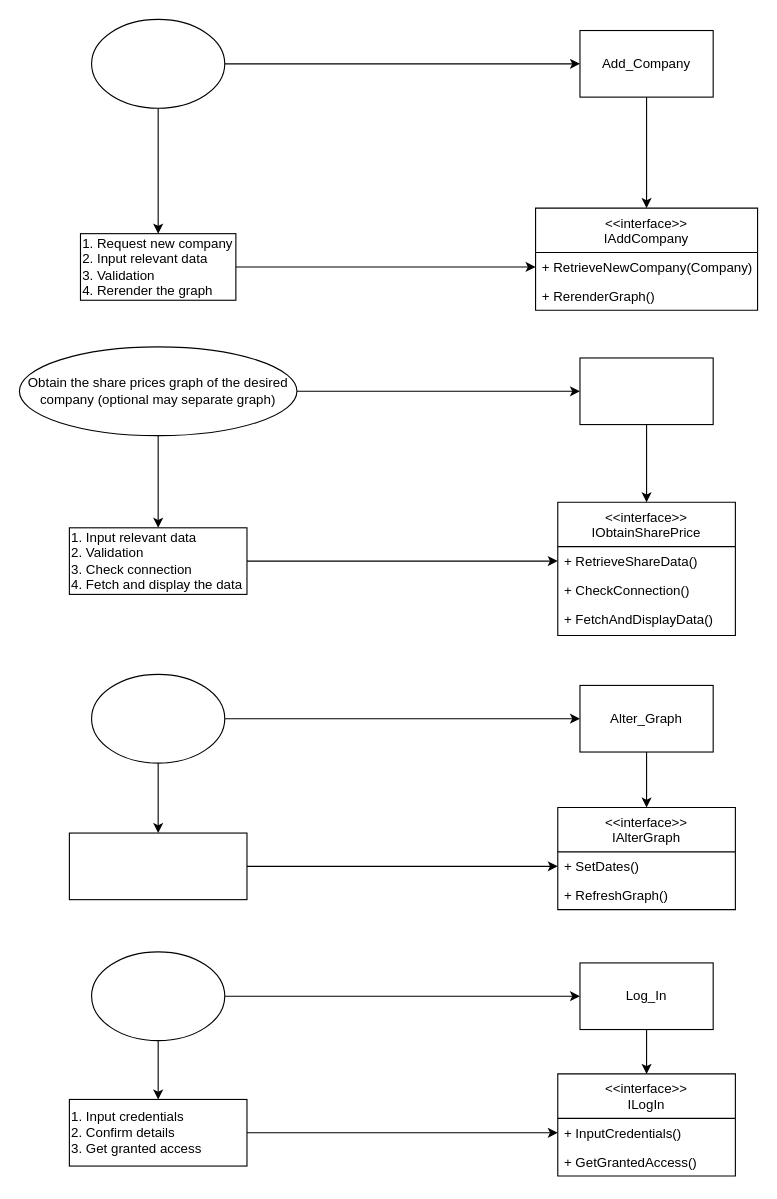
Some shapes in this 777 by 1199 pixel diagram are drawn without their labels. Each missing label, with the centre of its shape:
1. Reselect the dates 2. Confirm details 3. Refresh graph: [157,866]
Add extra company to the same graph: [157,63]
Alter Chosen Graph: [157,718]
Log In: [157,996]
Obtain_Share_Price: [646,391]
